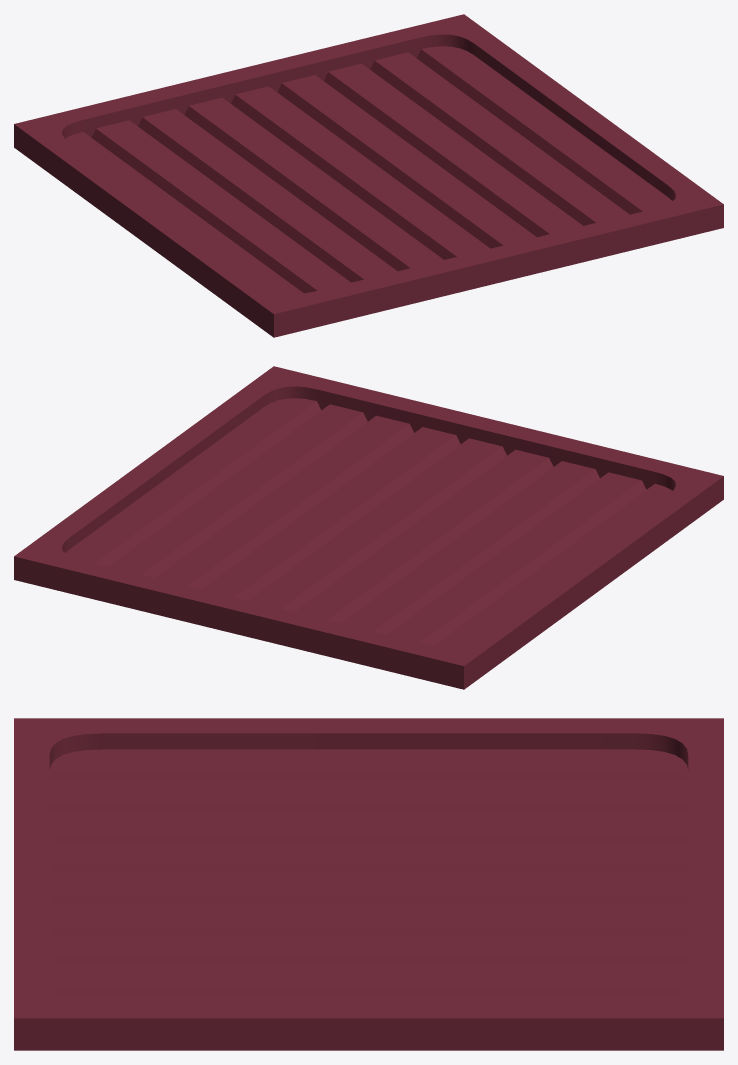
The model's file is Floor_B_2x2m_B.FBX.
The picture shows the model from 3 angles, top to bottom: view 1: azimuth 30°, elevation 25°; view 2: azimuth 150°, elevation 25°; view 3: azimuth 270°, elevation 25°; orthographic projection. The views are drawn at different scales.
Visible parts, largest first — view 1: Floor_B_2x2m_B; view 2: Floor_B_2x2m_B; view 3: Floor_B_2x2m_B.
Boxes of the visible parts, bbox=[...] form: Floor_B_2x2m_B: bbox=[14, 14, 723, 337]; Floor_B_2x2m_B: bbox=[14, 366, 723, 689]; Floor_B_2x2m_B: bbox=[14, 718, 723, 1050].
Bounding box in the file's own units: 200 × 10 × 200.
